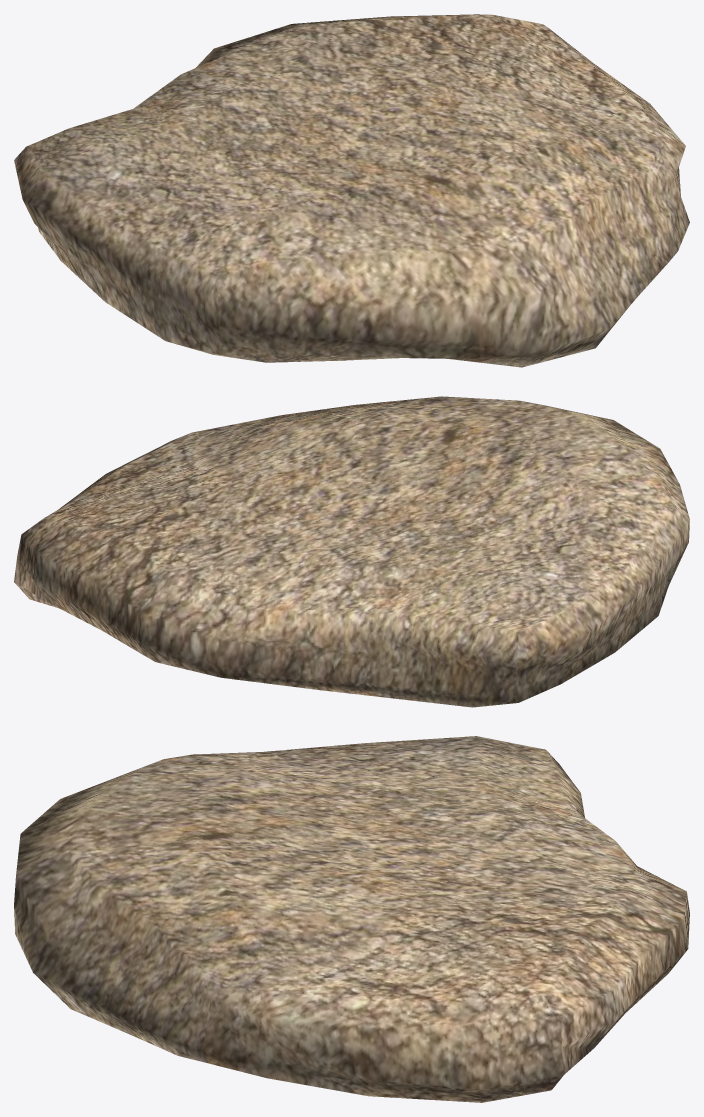
File: Stone08_v01.glb
3 views of the same model, one above another, from view 1: azimuth 30°, elevation 25°; view 2: azimuth 150°, elevation 25°; view 3: azimuth 270°, elevation 25° (orthographic). The views are drawn at different scales.
Visible parts, largest first — view 1: SM_Stone06; view 2: SM_Stone06; view 3: SM_Stone06.
Part boxes in pixels (left/top/right/bottom): SM_Stone06: left=14, top=14, right=689, bottom=367; SM_Stone06: left=14, top=396, right=689, bottom=707; SM_Stone06: left=14, top=736, right=689, bottom=1102.
Size of the model in its own units: 0.6096 by 0.1524 by 0.6096.
1 material, 1 textured.
